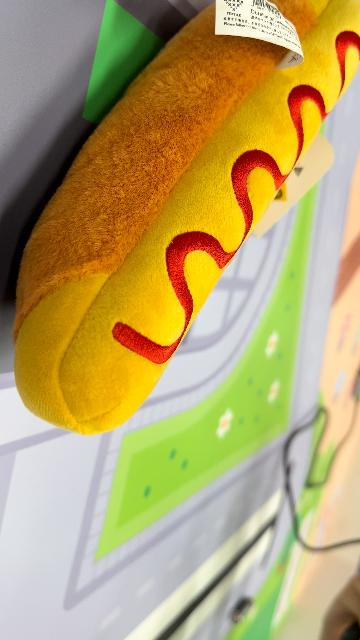hotdog: (12, 2, 358, 438)
